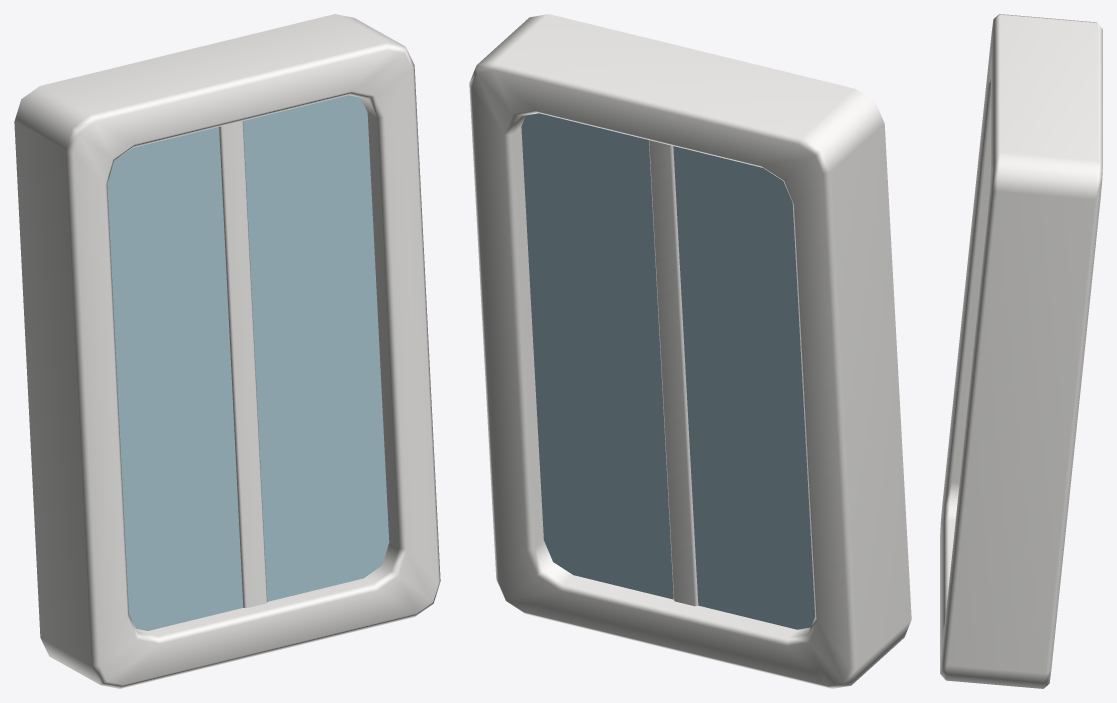
The model's file is Window_1.glb.
The picture shows the model from 3 angles, left to right: view 1: azimuth 30°, elevation 25°; view 2: azimuth 150°, elevation 25°; view 3: azimuth 270°, elevation 25°; orthographic projection. The views are drawn at different scales.
Visible parts, largest first — view 1: Window_1; view 2: Window_1; view 3: Window_1.
Boxes of the visible parts, x1,y1,x2,y2 form: Window_1: (14, 14, 440, 688); Window_1: (469, 14, 911, 688); Window_1: (940, 14, 1102, 688).
Size of the model in its own units: 1.24 by 1.91 by 0.5278.
2 materials, 2 textured.
